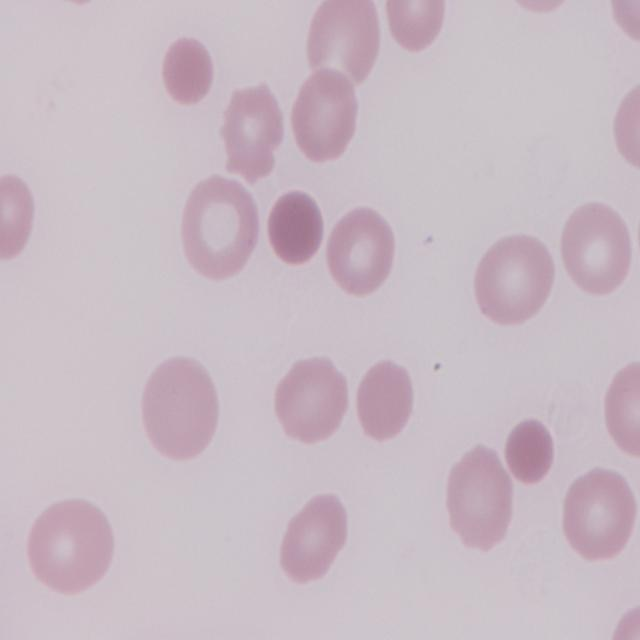RBC: (138, 353, 224, 462), (178, 176, 264, 284), (25, 494, 115, 596), (440, 443, 514, 558), (558, 198, 637, 298), (472, 231, 556, 325), (561, 465, 638, 563), (217, 82, 290, 185), (272, 354, 350, 448), (290, 63, 363, 162), (322, 204, 396, 300), (276, 488, 349, 584), (354, 357, 418, 441), (379, 2, 451, 57), (0, 162, 38, 266), (605, 353, 640, 463), (611, 74, 640, 188)
Spherocyte: (264, 190, 328, 268), (163, 34, 214, 110), (503, 416, 555, 485)
